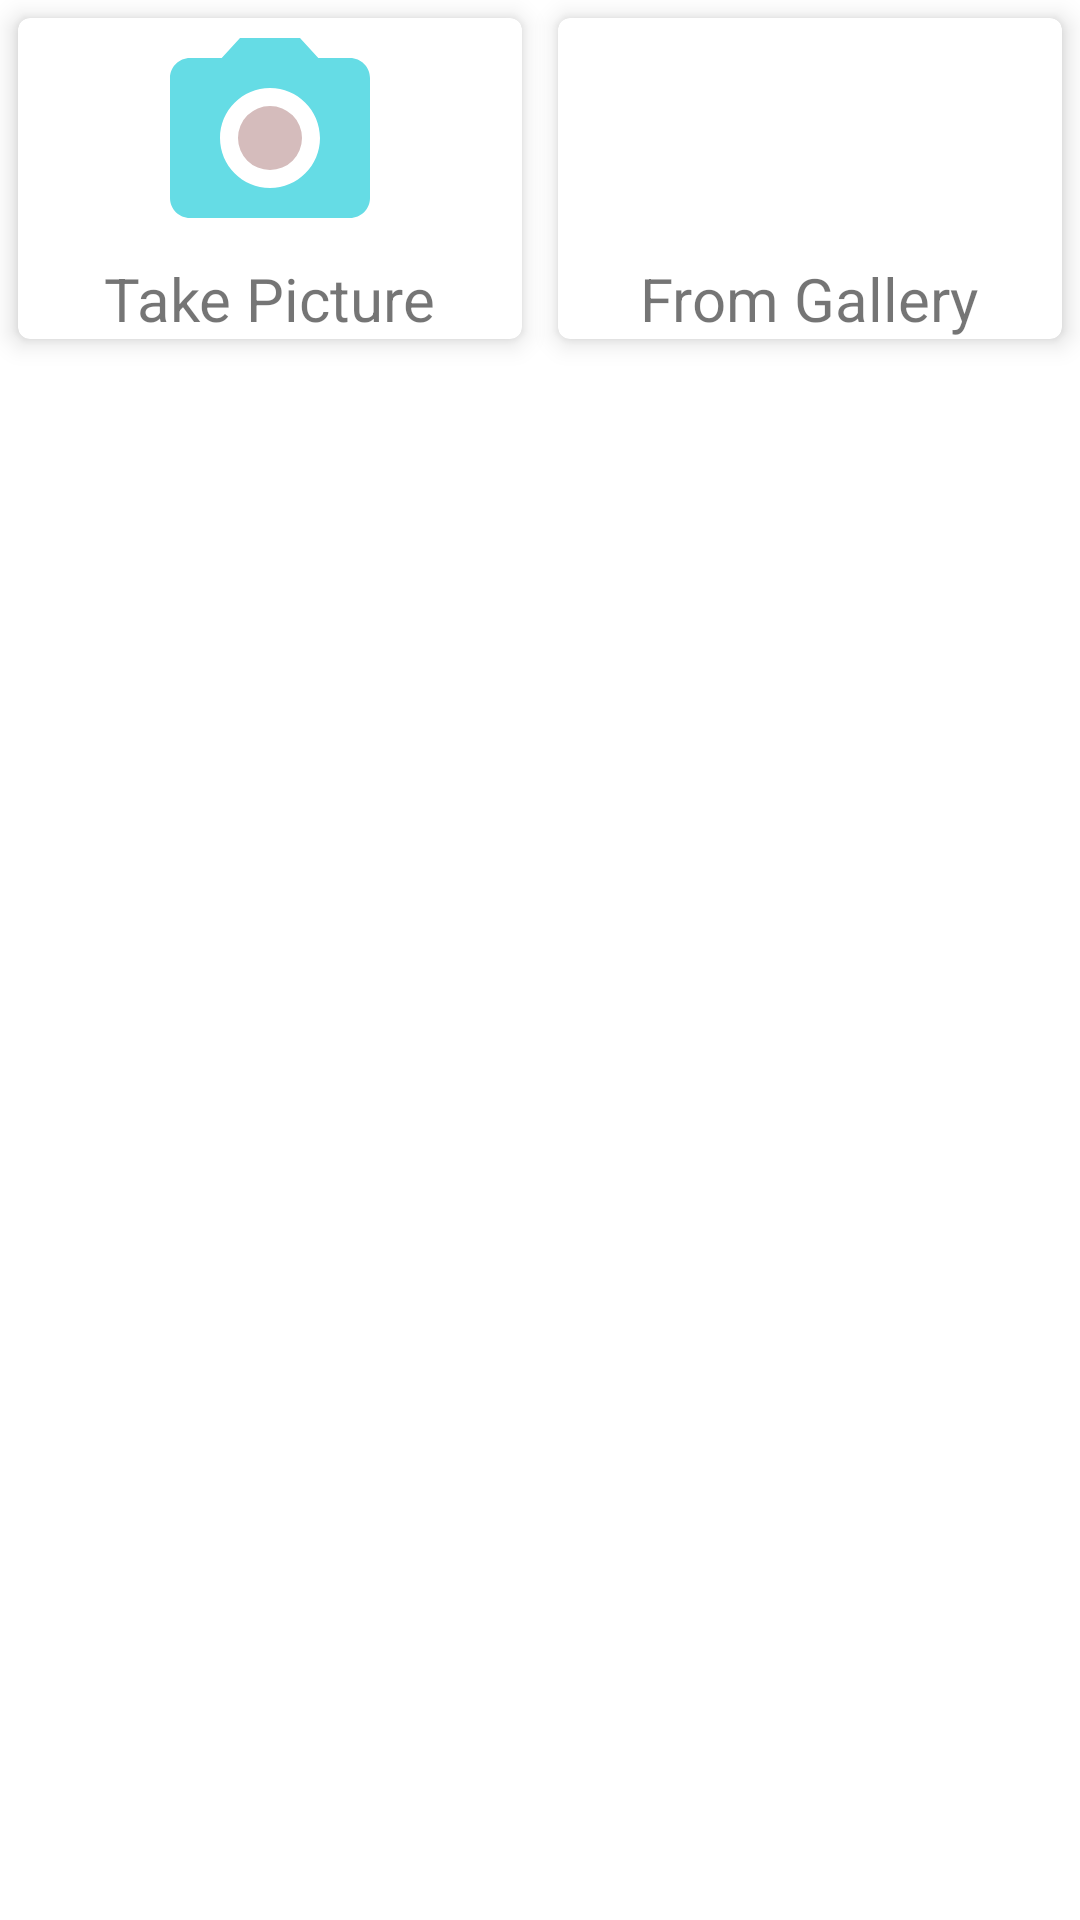

Locate icon controls on the screen. Image size 1080*1920, boxes as box(x1, y1, x2, y2).
photo camera: box(170, 38, 370, 218)
